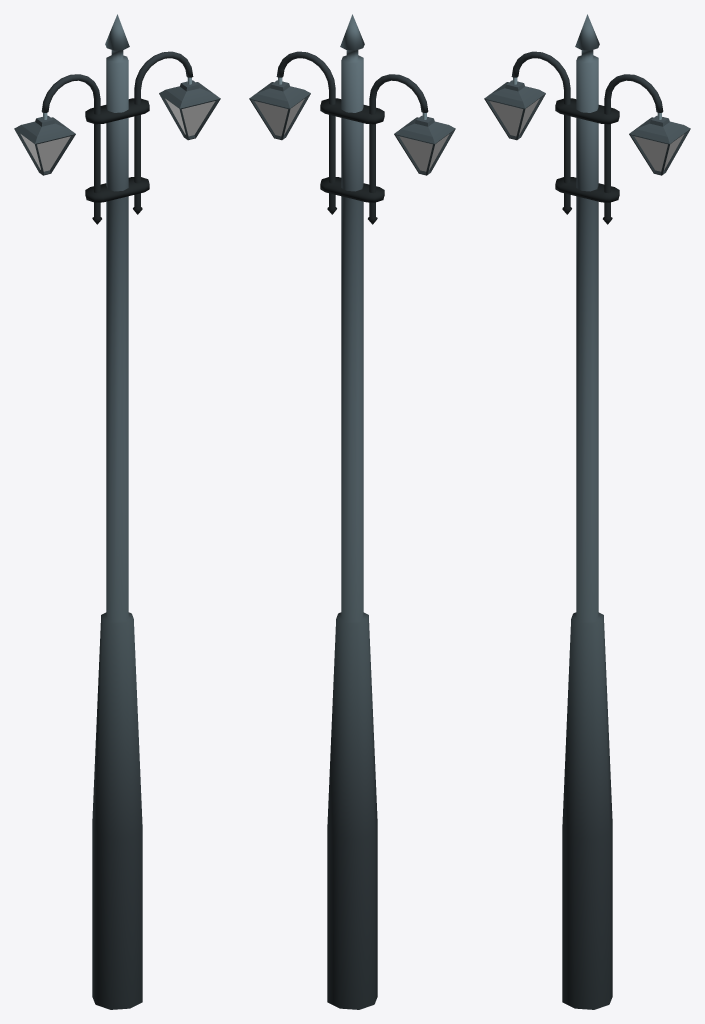
Rendered from TiangLampu.fbx.
The picture shows the model from 3 angles, left to right: view 1: azimuth 30°, elevation 25°; view 2: azimuth 150°, elevation 25°; view 3: azimuth 330°, elevation 25°; orthographic projection.
Parts seen in each view (by area): view 1: TiangLampu_LOD0, Lampu_LOD0; view 2: TiangLampu_LOD0, Lampu_LOD0; view 3: TiangLampu_LOD0, Lampu_LOD0.
Boxes of the visible parts, x1,y1,x2,y2 form: TiangLampu_LOD0: [41, 14, 193, 1009]; Lampu_LOD0: [14, 80, 220, 175]; TiangLampu_LOD0: [276, 14, 428, 1009]; Lampu_LOD0: [249, 80, 455, 175]; TiangLampu_LOD0: [511, 14, 663, 1009]; Lampu_LOD0: [484, 80, 690, 175].
Size of what is drawn, in the model's own units: 217 by 1098 by 51.5.
